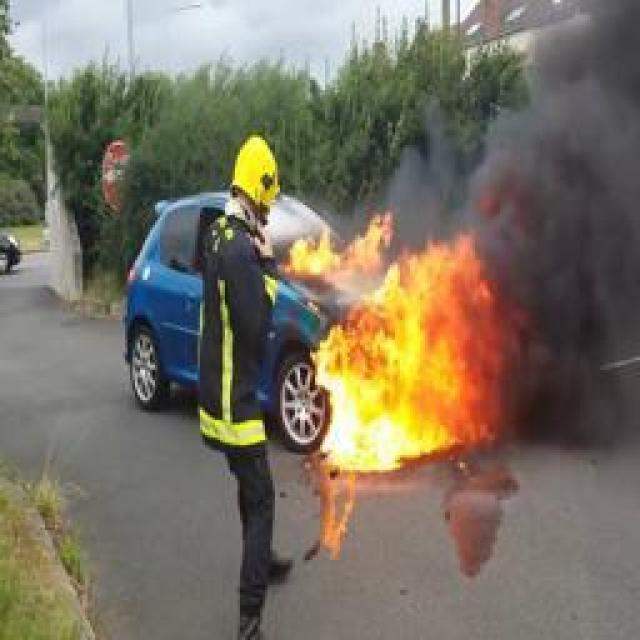Fire: (310, 238, 508, 474), (280, 215, 388, 270)
